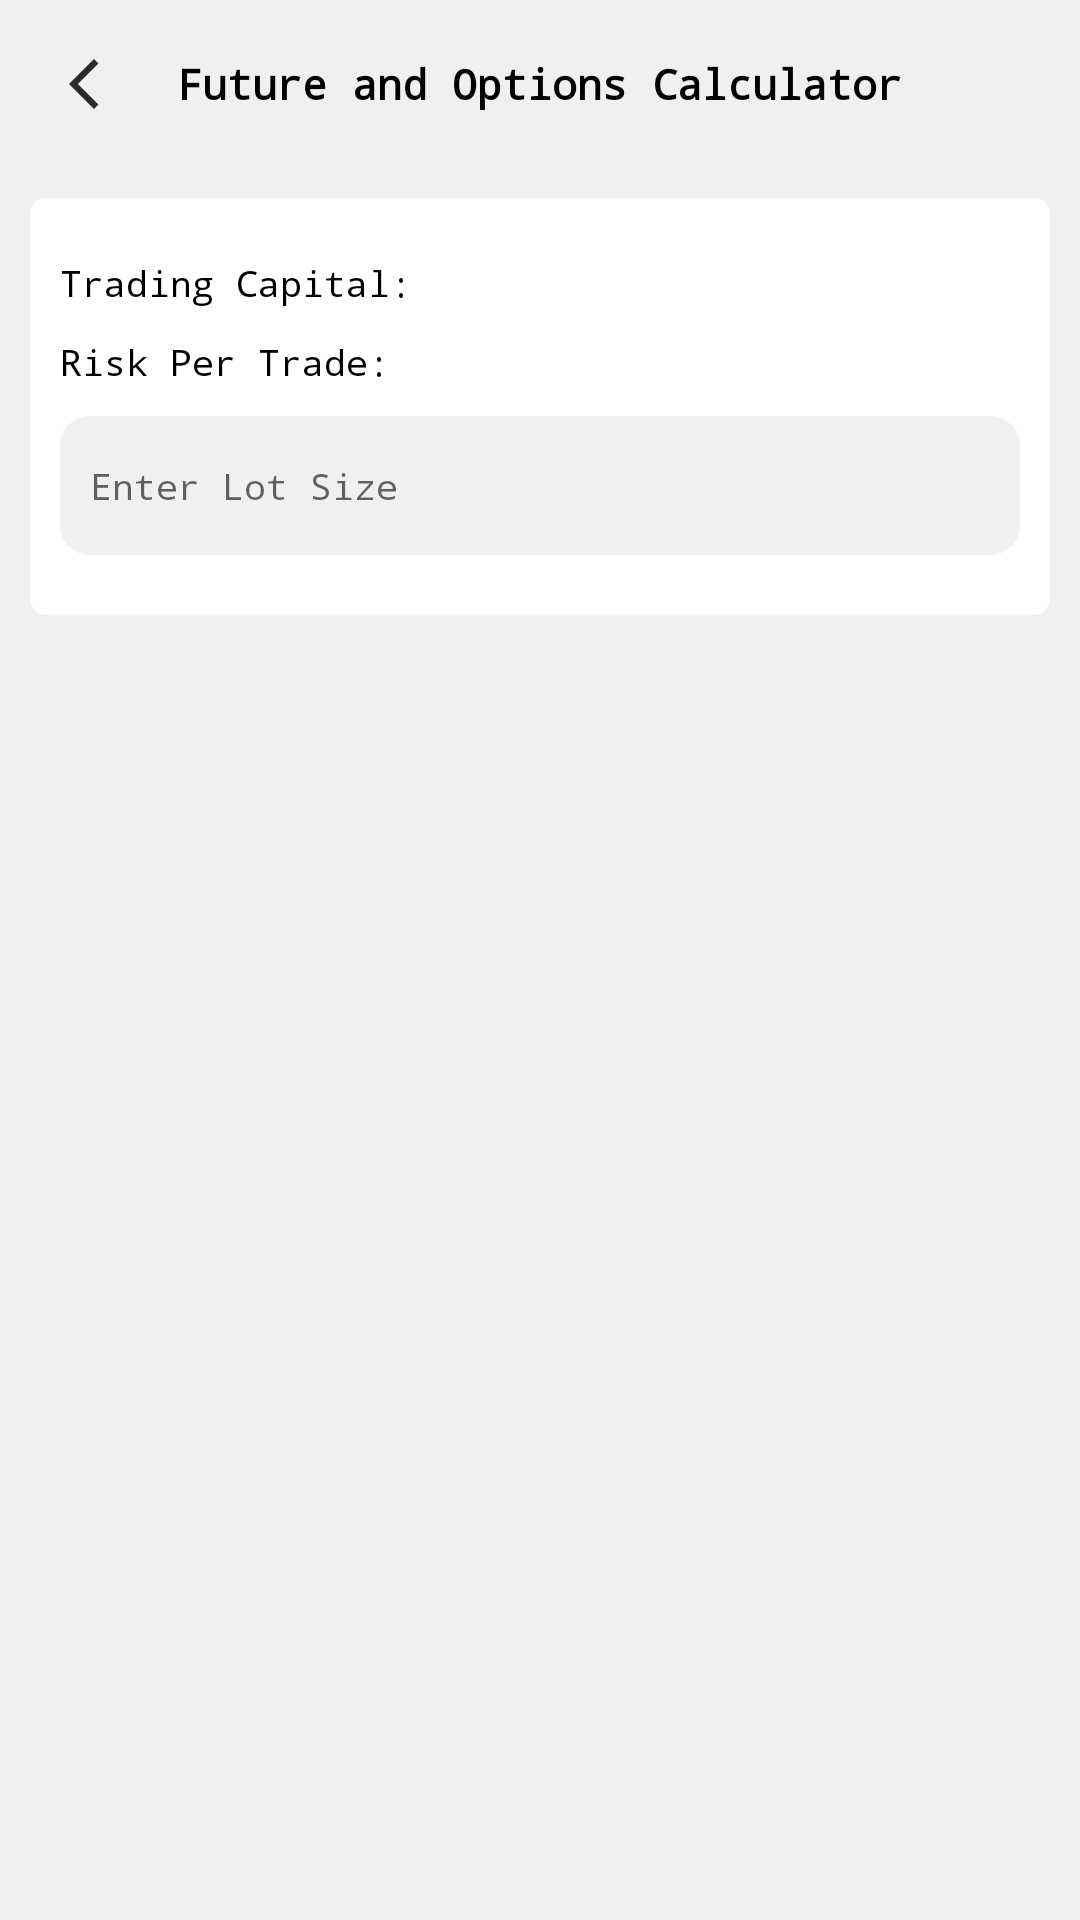

Where to tap for icons on this 1080px×1920px app screen, as (x,y):
arrow back: (84,84)
